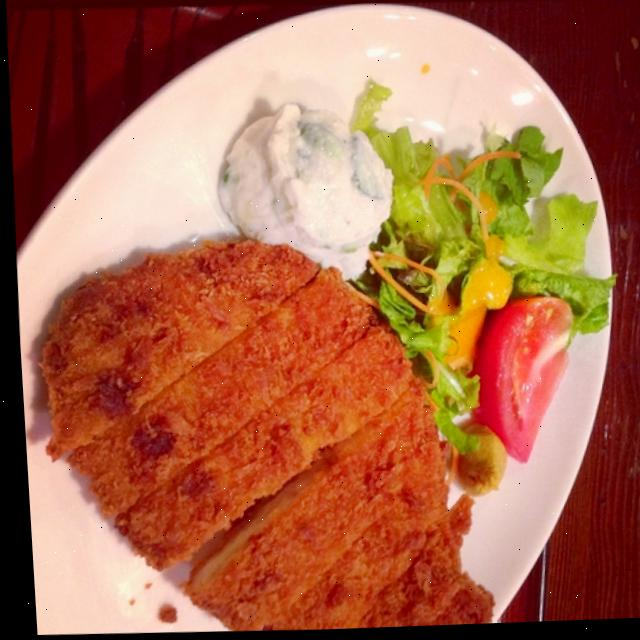鸡肉料理 含炸鸡: (3, 38, 624, 640)
